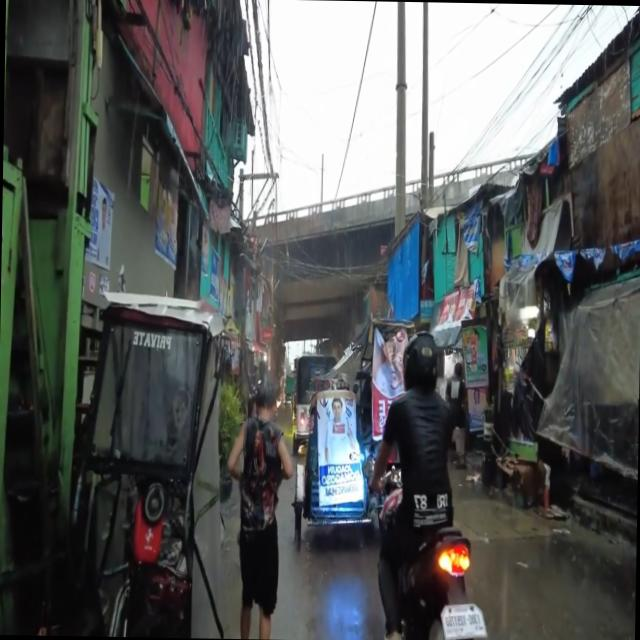full: (401, 329, 439, 394)
